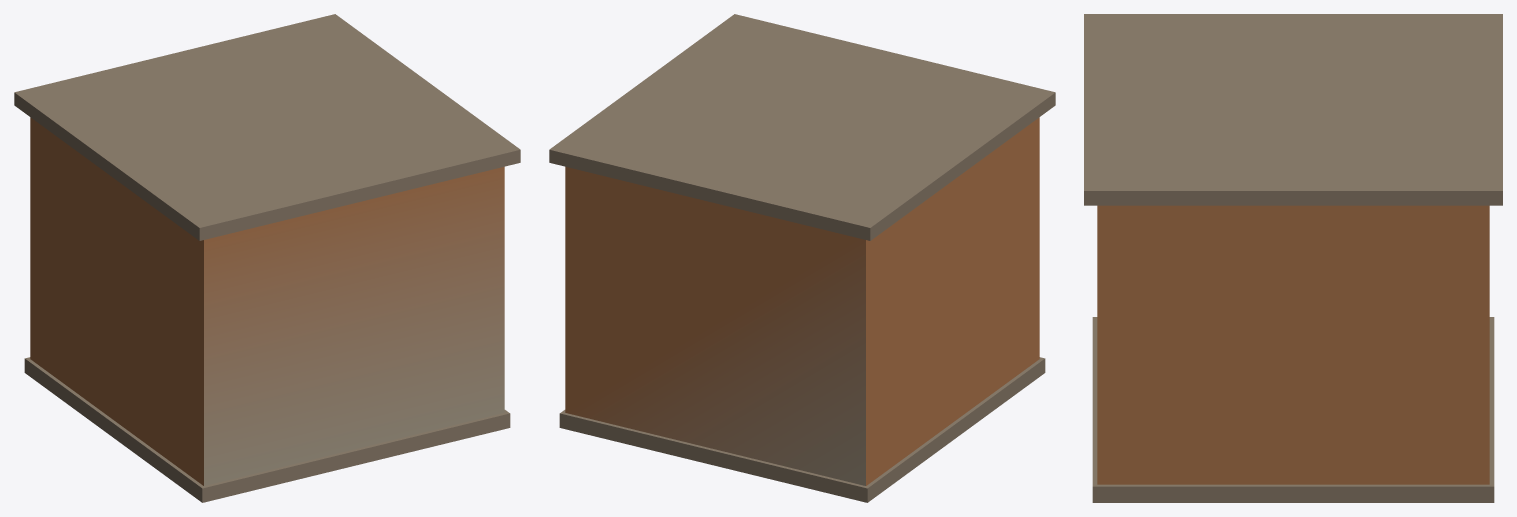
File: SM_Bld_Cuba_Room_01.glb
3 renders of one model, left to right at view 1: azimuth 30°, elevation 25°; view 2: azimuth 150°, elevation 25°; view 3: azimuth 270°, elevation 25°, orthographic. The views are drawn at different scales.
Visible parts, largest first — view 1: SM_Bld_Cuba_Room_01; view 2: SM_Bld_Cuba_Room_01; view 3: SM_Bld_Cuba_Room_01.
Boxes of the visible parts, <box> form: SM_Bld_Cuba_Room_01: <box>14,14,520,502</box>; SM_Bld_Cuba_Room_01: <box>549,14,1055,502</box>; SM_Bld_Cuba_Room_01: <box>1084,14,1502,502</box>.
Size of the model in its own units: 0.04 by 0.0333 by 0.04.
